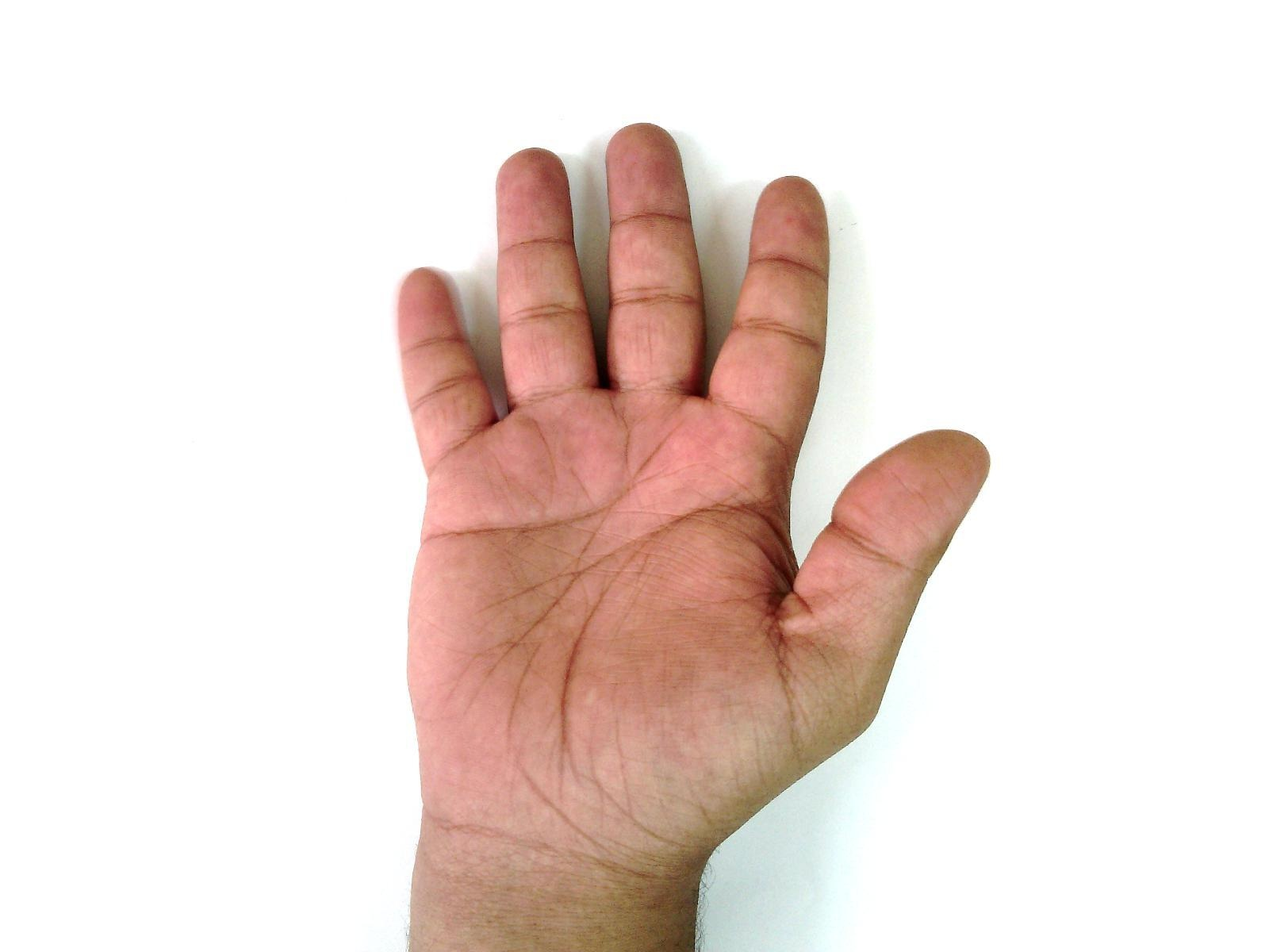open_palm: (390, 121, 994, 878)
